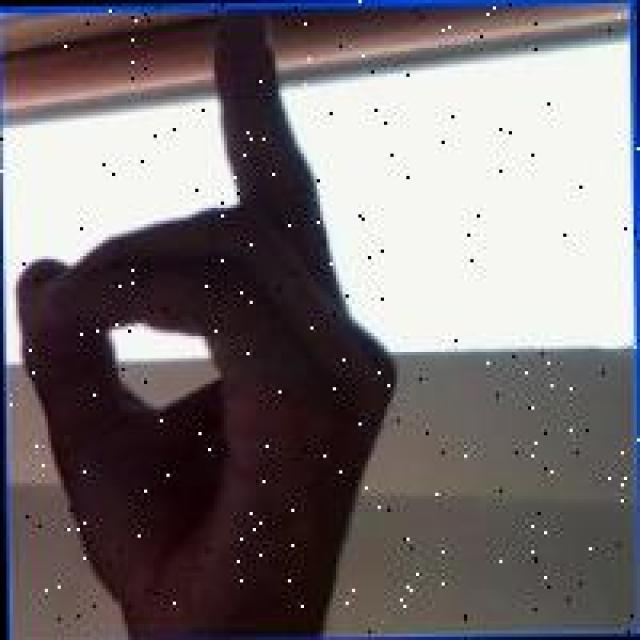D: (5, 11, 421, 632)
